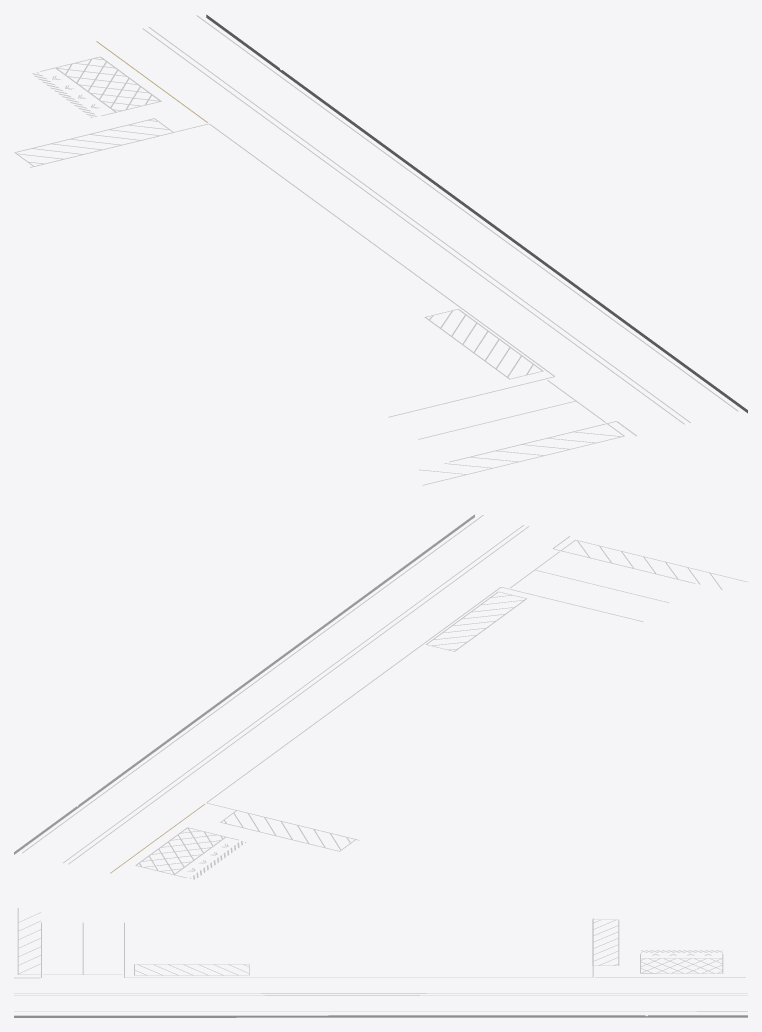
The picture shows the model from 3 angles, top to bottom: view 1: azimuth 30°, elevation 25°; view 2: azimuth 150°, elevation 25°; view 3: azimuth 270°, elevation 25°; orthographic projection. The views are drawn at different scales.
Visible parts, largest first — view 1: SM_I_RoadFacility_Ground_H_14C; view 2: SM_I_RoadFacility_Ground_H_14C; view 3: SM_I_RoadFacility_Ground_H_14C.
Boxes of the visible parts, x1,y1,x2,y2 form: SM_I_RoadFacility_Ground_H_14C: [14, 14, 747, 485]; SM_I_RoadFacility_Ground_H_14C: [14, 514, 747, 879]; SM_I_RoadFacility_Ground_H_14C: [14, 908, 747, 1017].
Bounding box in the file's own units: 3319 × 1142 × 19.66.
